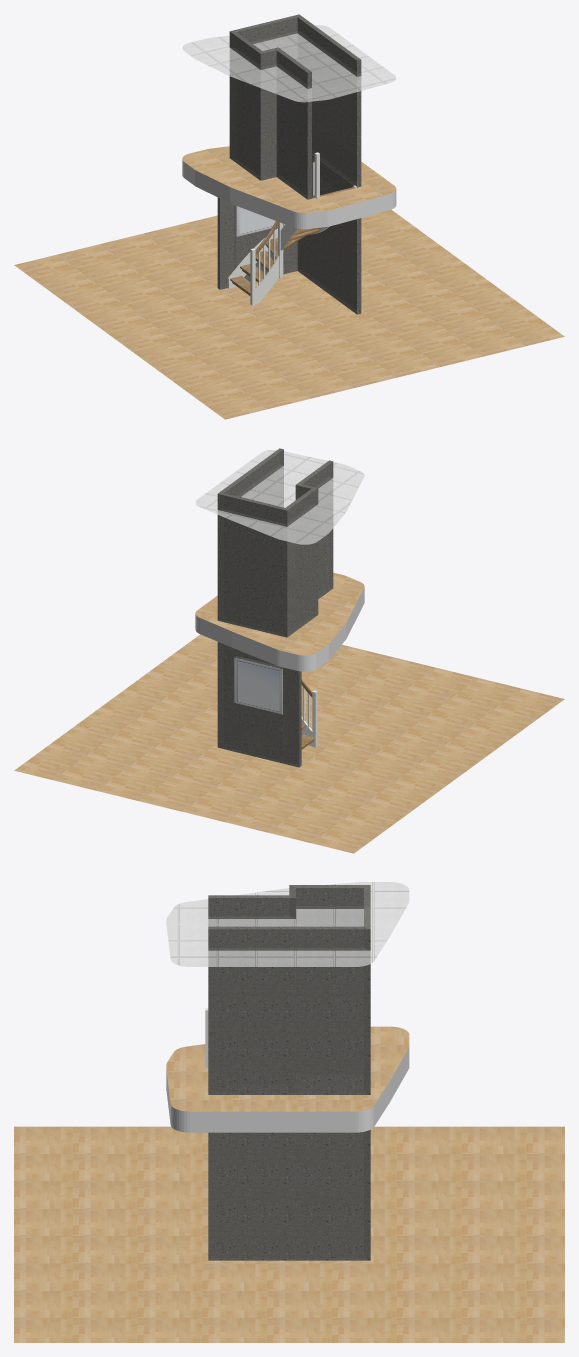
The model's file is model_0001_c67ceace.glb.
3 renders of one model, top to bottom at view 1: azimuth 30°, elevation 25°; view 2: azimuth 150°, elevation 25°; view 3: azimuth 270°, elevation 25°, orthographic. The views are drawn at different scales.
Visible parts, largest first — view 1: _x0023_OBJECT3Dcon_parkett.jpg1111, _x0023_BEGIN_WALLbeton1.jpg1110_x002C_3, _x0023_OBJECT3Dcon_tak.jpg1111, _x0023_OBJECT3D0_x002C_90_x002C_90_x002C_91, _x0023_TREADcon_ek.jpg1111, _x0023_POST0_x002C_980_x002C_980_x002C_951, _x0023_STRING0_x002C_980_x002C_980_x002C_951, _x0023_BEGIN_WALLcon_windowSingle.jpg1111, _x0023_BALUSTER0_x002C_980_x002C_980_x002C_951; view 2: _x0023_OBJECT3Dcon_parkett.jpg1111, _x0023_BEGIN_WALLbeton1.jpg1110_x002C_3, _x0023_OBJECT3Dcon_tak.jpg1111, _x0023_OBJECT3D0_x002C_90_x002C_90_x002C_91, _x0023_BEGIN_WALLcon_windowSingle.jpg1111; view 3: _x0023_OBJECT3Dcon_parkett.jpg1111, _x0023_BEGIN_WALLbeton1.jpg1110_x002C_3, _x0023_OBJECT3Dcon_tak.jpg1111, _x0023_OBJECT3D0_x002C_90_x002C_90_x002C_91.
Boxes of the visible parts, x1,y1,x2,y2 form: _x0023_OBJECT3Dcon_parkett.jpg1111: [14, 146, 564, 419]; _x0023_BEGIN_WALLbeton1.jpg1110_x002C_3: [217, 14, 361, 314]; _x0023_OBJECT3Dcon_tak.jpg1111: [182, 25, 396, 102]; _x0023_OBJECT3D0_x002C_90_x002C_90_x002C_91: [182, 160, 396, 229]; _x0023_TREADcon_ek.jpg1111: [230, 187, 354, 294]; _x0023_POST0_x002C_980_x002C_980_x002C_951: [250, 152, 319, 305]; _x0023_STRING0_x002C_980_x002C_980_x002C_951: [255, 185, 356, 303]; _x0023_BEGIN_WALLcon_windowSingle.jpg1111: [236, 206, 277, 236]; _x0023_BALUSTER0_x002C_980_x002C_980_x002C_951: [258, 162, 314, 285]; _x0023_OBJECT3Dcon_parkett.jpg1111: [14, 572, 564, 853]; _x0023_BEGIN_WALLbeton1.jpg1110_x002C_3: [217, 448, 333, 767]; _x0023_OBJECT3Dcon_tak.jpg1111: [195, 450, 364, 544]; _x0023_OBJECT3D0_x002C_90_x002C_90_x002C_91: [195, 587, 364, 671]; _x0023_BEGIN_WALLcon_windowSingle.jpg1111: [234, 657, 282, 714]; _x0023_OBJECT3Dcon_parkett.jpg1111: [14, 1026, 564, 1342]; _x0023_BEGIN_WALLbeton1.jpg1110_x002C_3: [208, 885, 370, 1260]; _x0023_OBJECT3Dcon_tak.jpg1111: [166, 882, 409, 966]; _x0023_OBJECT3D0_x002C_90_x002C_90_x002C_91: [166, 1047, 409, 1132].
Size of the model in its own units: 7.9 by 5.64 by 8.5.
Materials: 12 (8 with a texture image).
